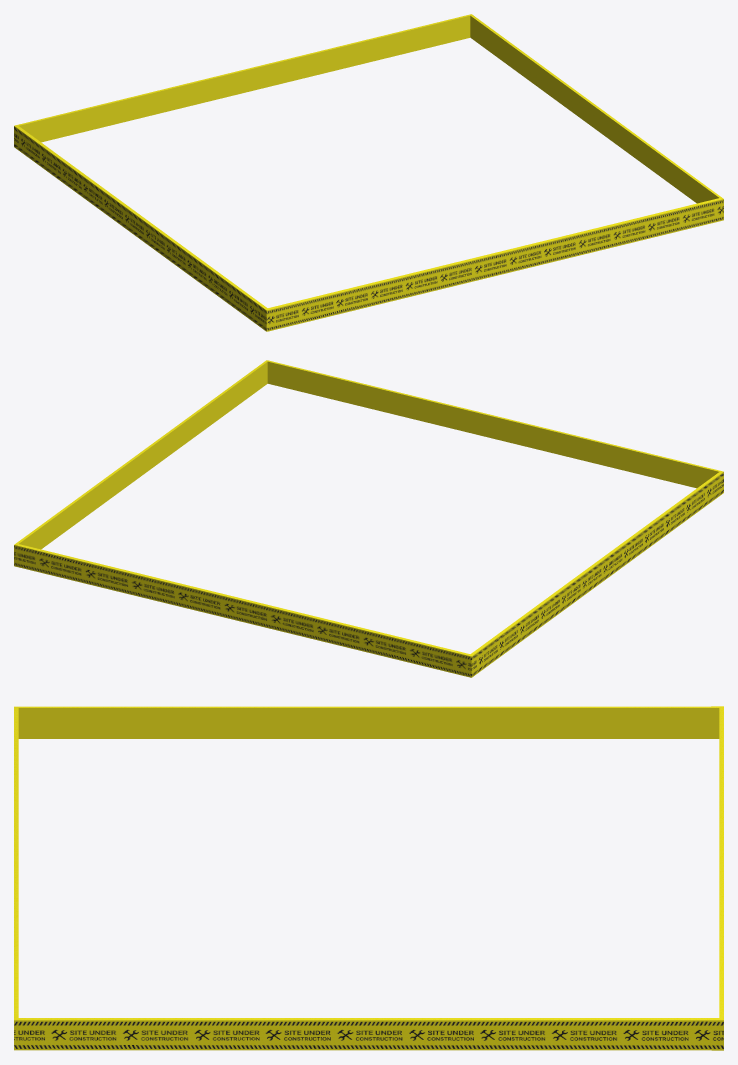
Rendered from GateContrution.fbx.
3 renders of one model, top to bottom at view 1: azimuth 30°, elevation 25°; view 2: azimuth 150°, elevation 25°; view 3: azimuth 270°, elevation 25°, orthographic. The views are drawn at different scales.
Visible parts, largest first — view 1: GateConstruction; view 2: GateConstruction; view 3: GateConstruction.
Part boxes in pixels (x1,y1,x2,y2): GateConstruction: (14,14,723,331); GateConstruction: (14,360,723,677); GateConstruction: (14,706,723,1050).
Size of the model in its own units: 9657 by 445 by 9229.
